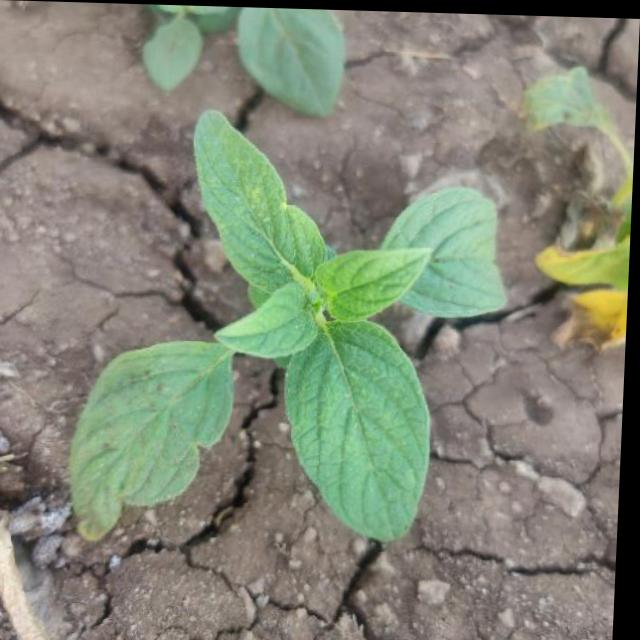crop: (74, 97, 512, 541)
